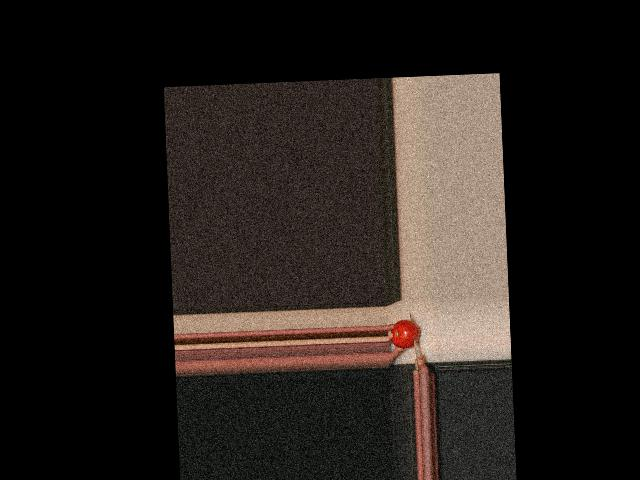tomato: (390, 318, 420, 348)
